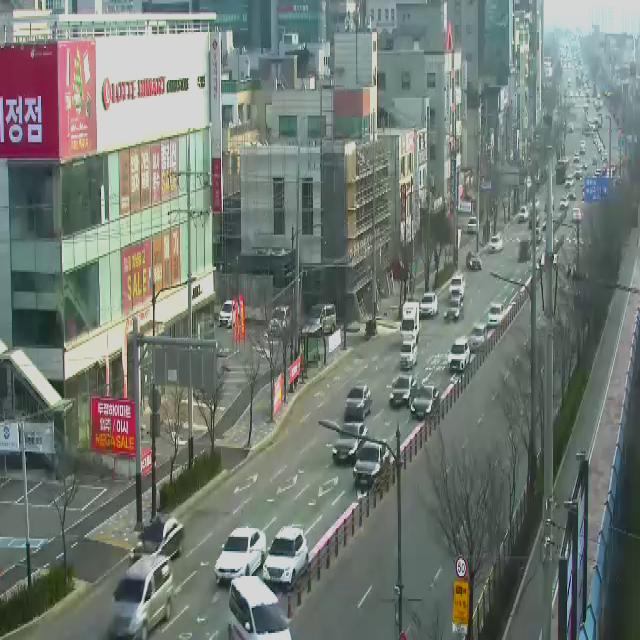Bus: (555, 160, 569, 184)
Car: (111, 556, 173, 640), (228, 576, 292, 640), (216, 528, 266, 586), (263, 524, 308, 583), (129, 518, 184, 564), (353, 439, 390, 487), (332, 424, 368, 466), (308, 304, 336, 340), (344, 386, 371, 422), (411, 386, 439, 420), (389, 375, 417, 409), (268, 307, 292, 338), (448, 340, 470, 372), (218, 300, 239, 330), (400, 342, 417, 371), (469, 324, 487, 351), (444, 298, 463, 323), (419, 294, 438, 318), (449, 274, 465, 299), (518, 238, 532, 263), (488, 304, 503, 327), (466, 252, 482, 270), (488, 236, 502, 253), (467, 217, 479, 235), (529, 209, 540, 228), (530, 227, 542, 244), (545, 194, 554, 212), (518, 206, 528, 222), (572, 208, 581, 222), (530, 197, 540, 209), (560, 197, 569, 210), (574, 167, 582, 180), (566, 174, 574, 187), (567, 190, 576, 200), (543, 215, 546, 232), (574, 154, 579, 164)
Truck: (400, 302, 419, 344)
